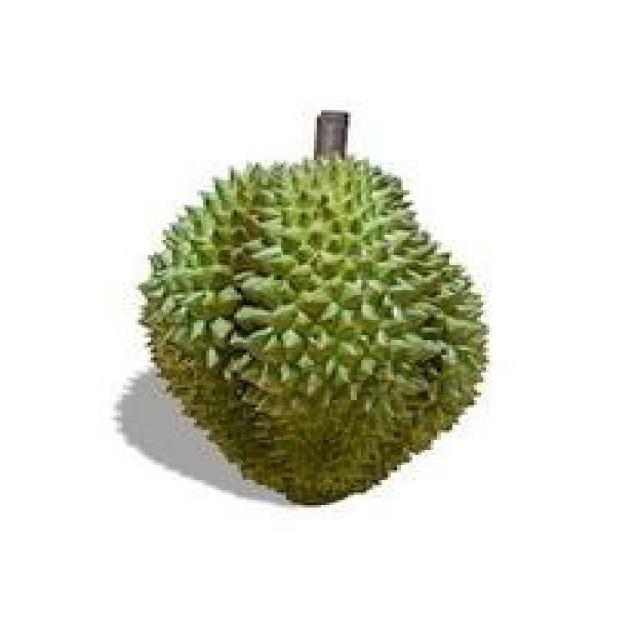fruit: (95, 122, 523, 538)
